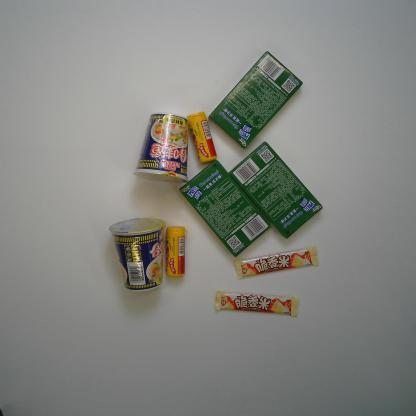Candy: (186, 111, 218, 164), (165, 226, 187, 278)
Chocolate: (233, 245, 320, 280), (215, 290, 298, 317)
Dessert: (207, 50, 303, 150), (228, 140, 323, 240), (178, 159, 272, 258)
Instant Noodles: (108, 217, 167, 292), (132, 112, 190, 184)
